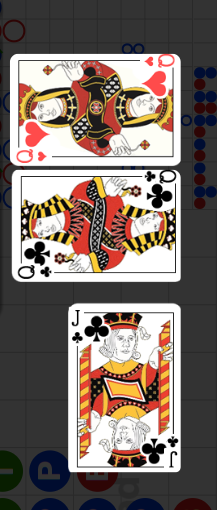9H: (15, 149, 48, 164)
JC: (69, 308, 84, 345), (165, 434, 179, 469)
QC: (134, 171, 181, 215), (14, 238, 60, 282)
